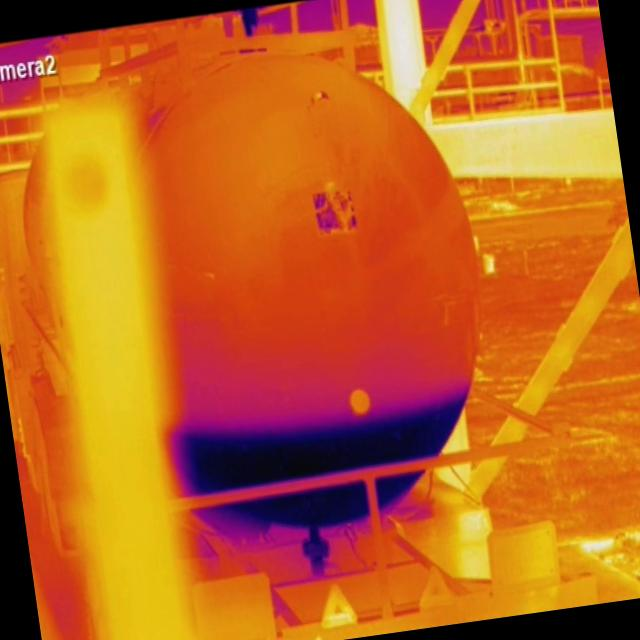tank: (114, 29, 510, 548)
